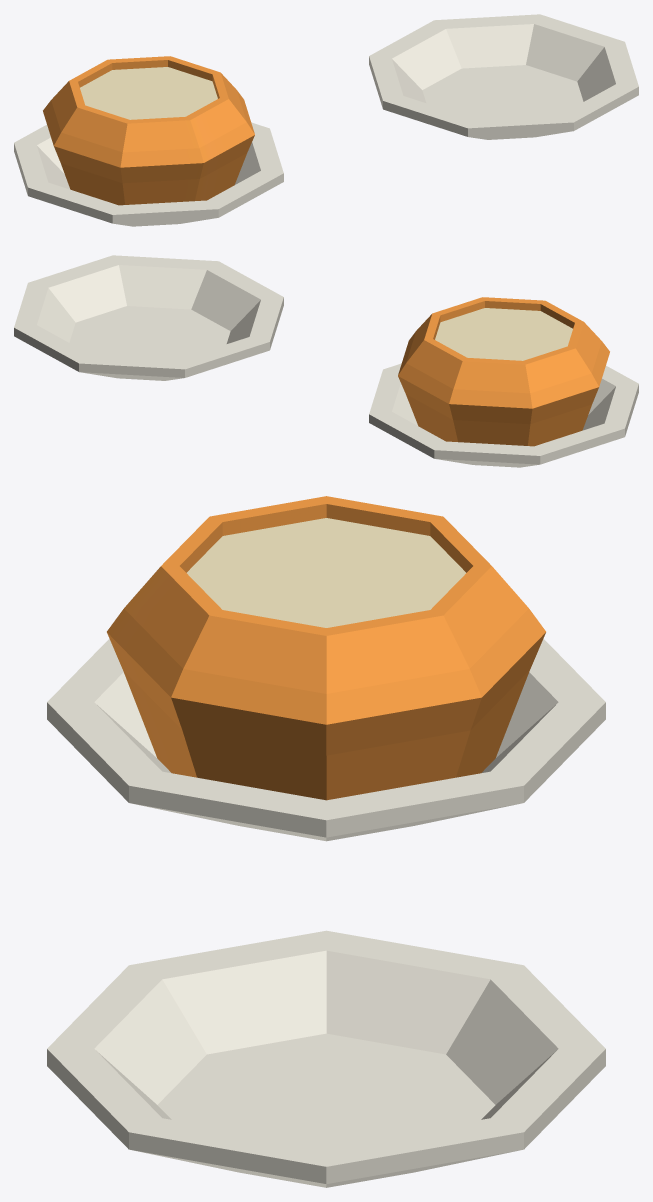
The model's file is pai.fbx.
The picture shows the model from 3 angles, top to bottom: view 1: azimuth 30°, elevation 25°; view 2: azimuth 150°, elevation 25°; view 3: azimuth 270°, elevation 25°; orthographic projection. The views are drawn at different scales.
Parts seen in each view (by area): view 1: Cylinder, Cylinder.002, Cylinder.001, Cylinder.003; view 2: Cylinder, Cylinder.002, Cylinder.001, Cylinder.003; view 3: Cylinder, Cylinder.002, Cylinder.001, Cylinder.003.
Part boxes in pixels (x1,y1,x2,y2): Cylinder: (369,14,638,139); Cylinder.002: (43,56,254,205); Cylinder.001: (14,122,283,226); Cylinder.003: (80,67,217,119); Cylinder: (14,255,283,380); Cylinder.002: (398,297,609,446); Cylinder.001: (369,363,638,467); Cylinder.003: (435,308,572,360); Cylinder: (47,930,605,1187); Cylinder.002: (107,496,545,800); Cylinder.001: (47,639,605,841); Cylinder.003: (187,518,465,627).
Size of the model in its own units: 363 by 64.76 by 147.
